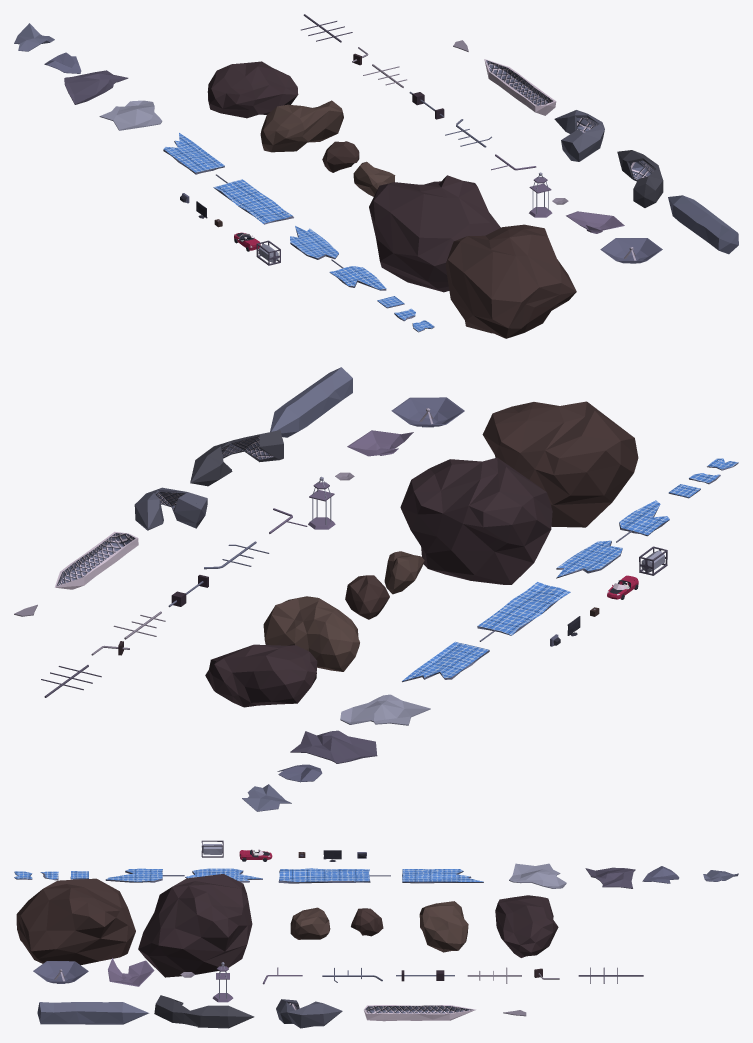
File: ZZ_AllModels.fbx
The picture shows the model from 3 angles, top to bottom: view 1: azimuth 30°, elevation 25°; view 2: azimuth 150°, elevation 25°; view 3: azimuth 270°, elevation 25°; orthographic projection. The views are drawn at different scales.
Parts seen in each view (by area): view 1: Asteroid_6, Asteroid_5, Asteroid_3, Asteroid_4, Rocket_whole_0, Rocket_broken_1, Rocket_broken_0, Hull_half, Solar_big_whole, sheet_1, sheet_0, Solar_big_broken_0 (+8 smaller); view 2: Asteroid_5, Asteroid_6, Asteroid_3, Asteroid_4, Rocket_whole_0, Rocket_broken_0, Solar_big_whole, Hull_half, Rocket_broken_1, sheet_1, sheet_0, Solar_big_broken_0 (+8 smaller); view 3: Asteroid_5, Asteroid_6, Asteroid_3, Rocket_whole_0, Asteroid_4, Rocket_broken_0, Hull_half, Solar_big_whole, Rocket_broken_1, Asteroid_1, sheet_0, Solar_big_broken_0 (+10 smaller).
Boxes of the visible parts, x1,y1,x2,y2 form: Asteroid_6: (445,224,576,338); Asteroid_5: (369,175,500,292); Asteroid_3: (207,61,298,118); Asteroid_4: (260,100,343,152); Rocket_whole_0: (668,195,738,254); Rocket_broken_1: (554,110,604,161); Rocket_broken_0: (617,150,663,207); Hull_half: (484,59,556,115); Solar_big_whole: (213,174,293,224); sheet_1: (64,70,128,104); sheet_0: (99,100,162,130); Solar_big_broken_0: (163,133,224,174); Asteroid_5: (400,457,552,584); Asteroid_6: (482,401,638,527); Asteroid_3: (205,644,317,707); Asteroid_4: (263,596,359,671); Rocket_whole_0: (270,367,352,437); Rocket_broken_0: (190,430,283,486); Solar_big_whole: (477,582,570,641); Hull_half: (54,531,138,589); Rocket_broken_1: (134,487,207,530); sheet_1: (290,730,377,763); sheet_0: (340,694,430,725); Solar_big_broken_0: (402,641,489,682); Asteroid_5: (138,874,252,977); Asteroid_6: (16,878,135,965); Asteroid_3: (495,895,558,957); Rocket_whole_0: (37,1002,149,1024); Asteroid_4: (419,901,468,952); Rocket_broken_0: (154,995,254,1028); Hull_half: (364,1005,475,1021); Solar_big_whole: (278,868,390,883); Rocket_broken_1: (276,999,342,1028); Asteroid_1: (290,907,330,939); sheet_0: (509,863,566,888); Solar_big_broken_0: (402,869,483,883).
Bounding box in the file's own units: 5086 × 1279 × 9199.
